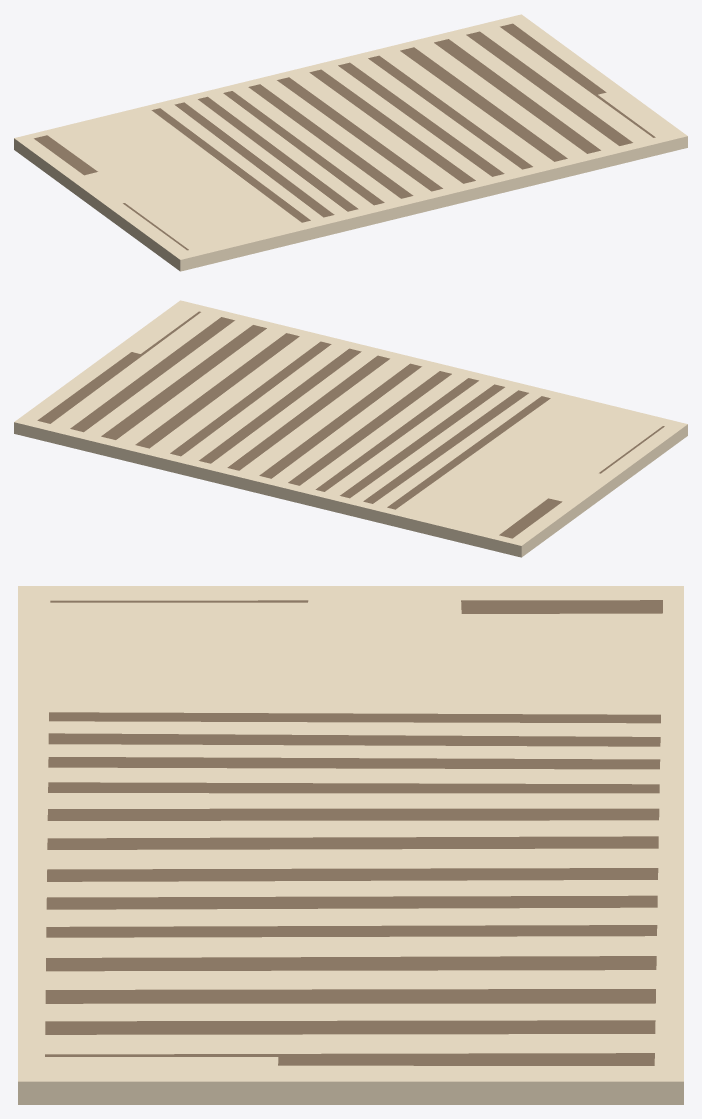
The model's file is contract.fbx.
The picture shows the model from 3 angles, top to bottom: view 1: azimuth 30°, elevation 25°; view 2: azimuth 150°, elevation 25°; view 3: azimuth 270°, elevation 25°; orthographic projection. The views are drawn at different scales.
Parts seen in each view (by area): view 1: Cube; view 2: Cube; view 3: Cube.
Boxes of the visible parts, left/top/right/bottom form: Cube: left=14, top=14, right=687, bottom=271; Cube: left=14, top=300, right=687, bottom=557; Cube: left=18, top=586, right=683, bottom=1104.
Size of the model in its own units: 36.91 by 0.8094 by 20.97.
